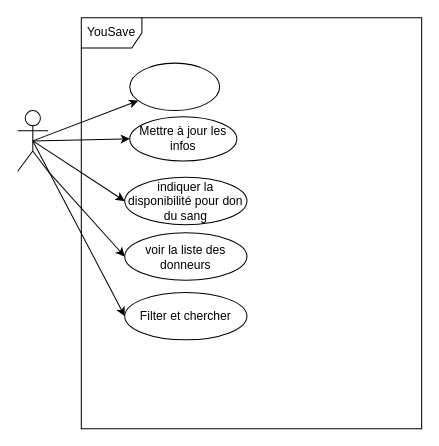
The diagram is 439 pixels wide and 446 high, and some of its shapes have lost their labels. Here are the shapes that lost their labels. From the top down, the centre of each, then its label:
At point (174, 86): "s'inscrire".
At point (32, 140): "user".
